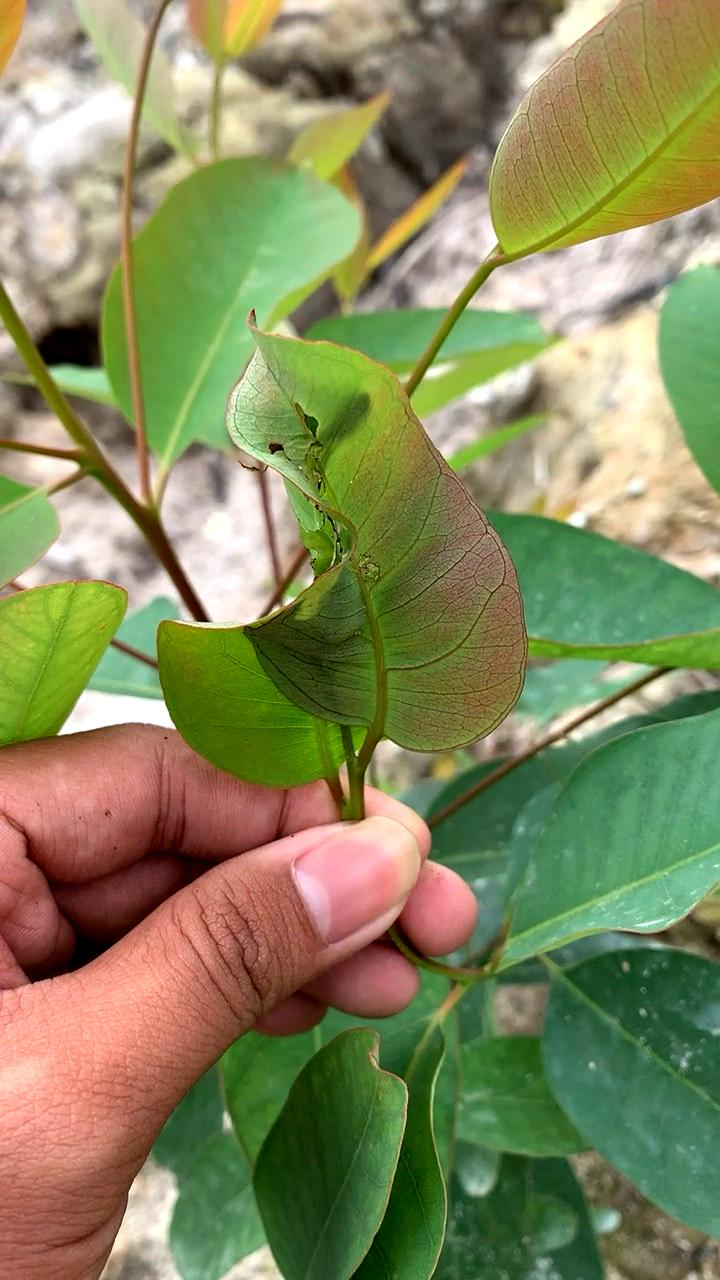Leaf Roller - Leaf: (137, 283, 553, 856)
